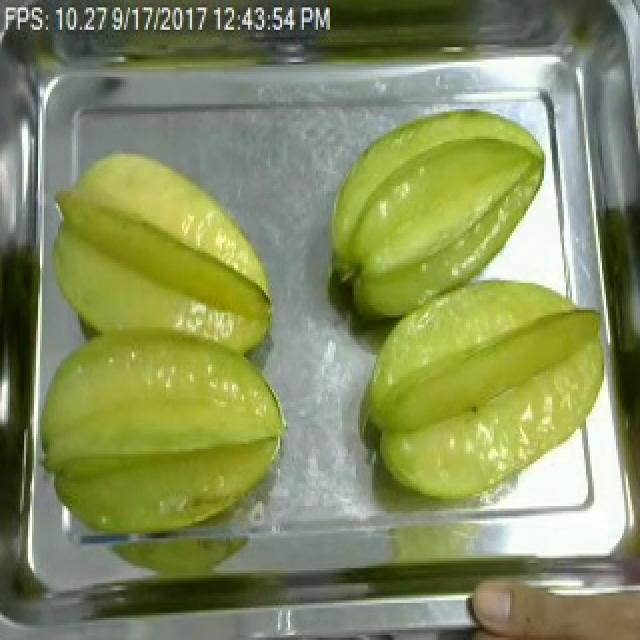fruit: (352, 256, 620, 514), (32, 315, 300, 558), (38, 142, 286, 400), (310, 97, 564, 327), (284, 0, 502, 87), (458, 541, 640, 640)
